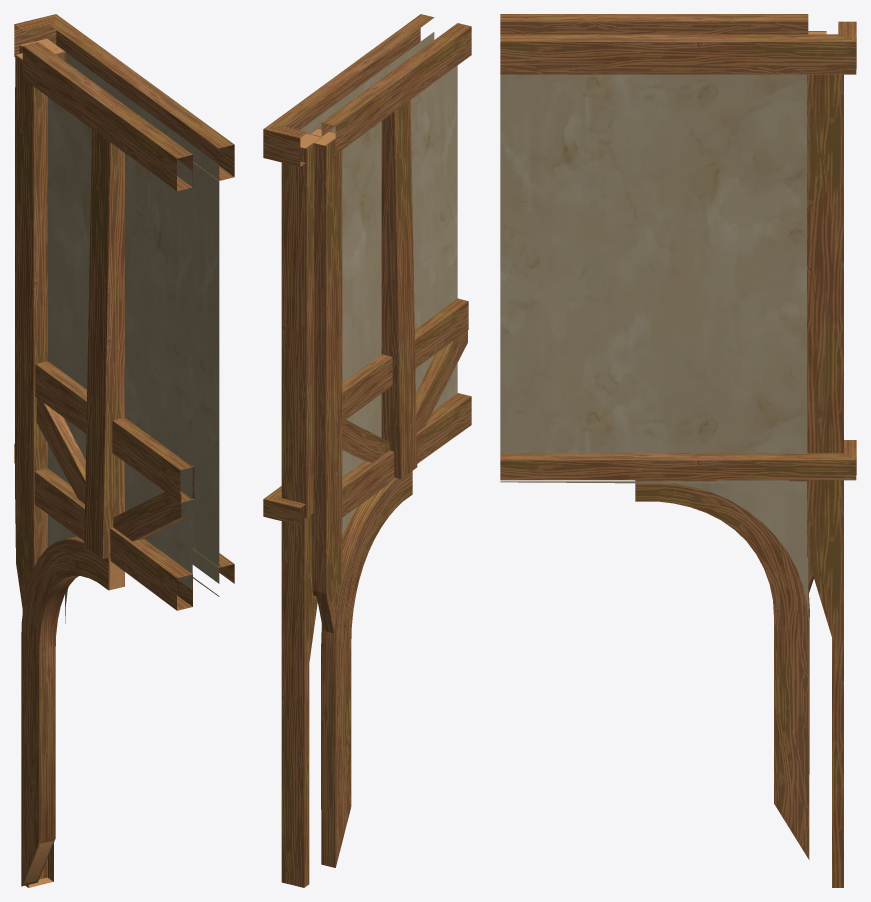
File: overhang_side_plaster_long_l.glb
The picture shows the model from 3 angles, left to right: view 1: azimuth 30°, elevation 25°; view 2: azimuth 150°, elevation 25°; view 3: azimuth 270°, elevation 25°; orthographic projection. The views are drawn at different scales.
Bounding box in the file's own units: 0.4794 × 6.12 × 2.31.
2 materials, 2 textured.
